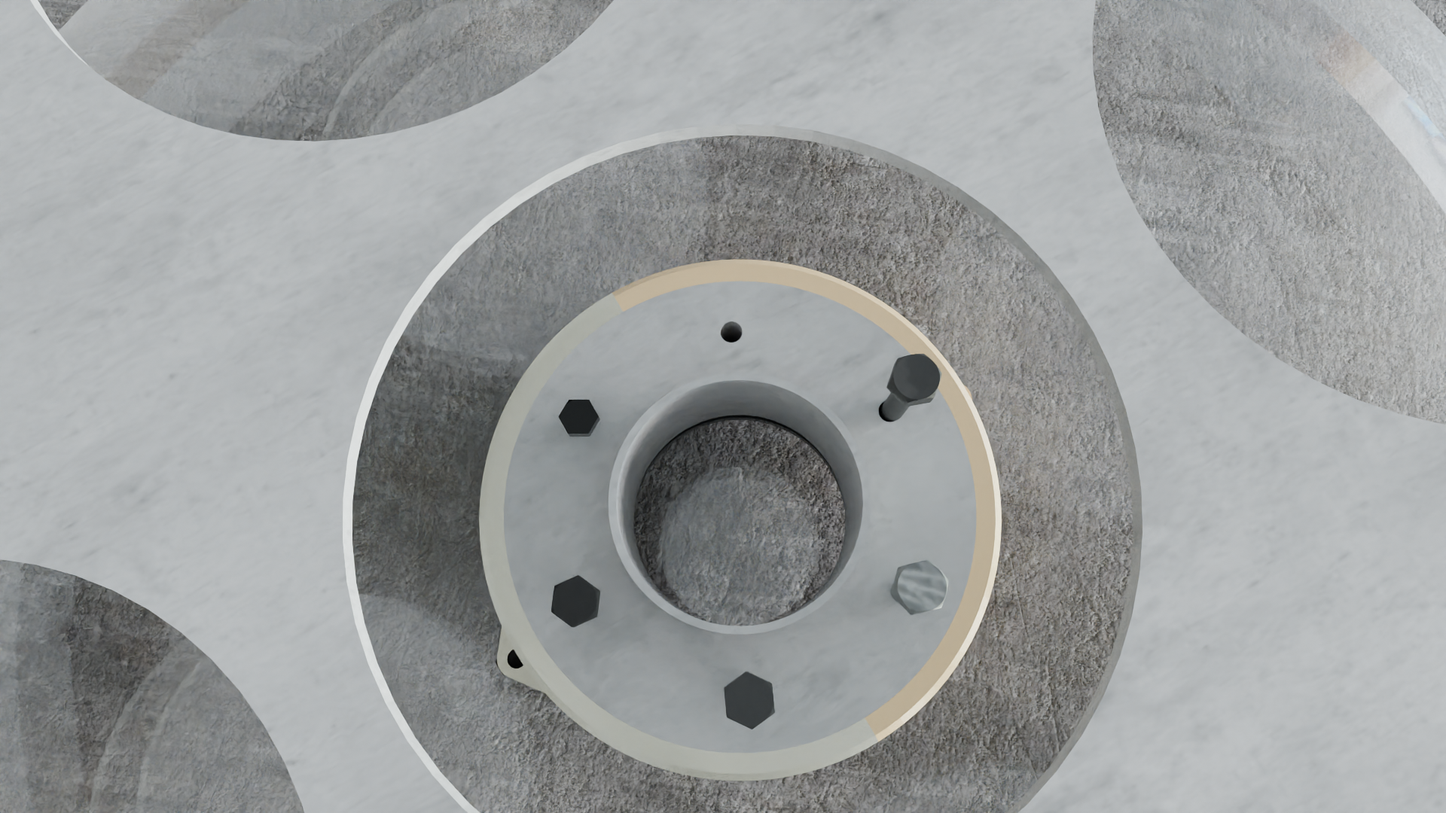bolt: (894, 559, 948, 614), (724, 672, 775, 729), (889, 354, 942, 403), (551, 575, 599, 627), (558, 400, 599, 434)
